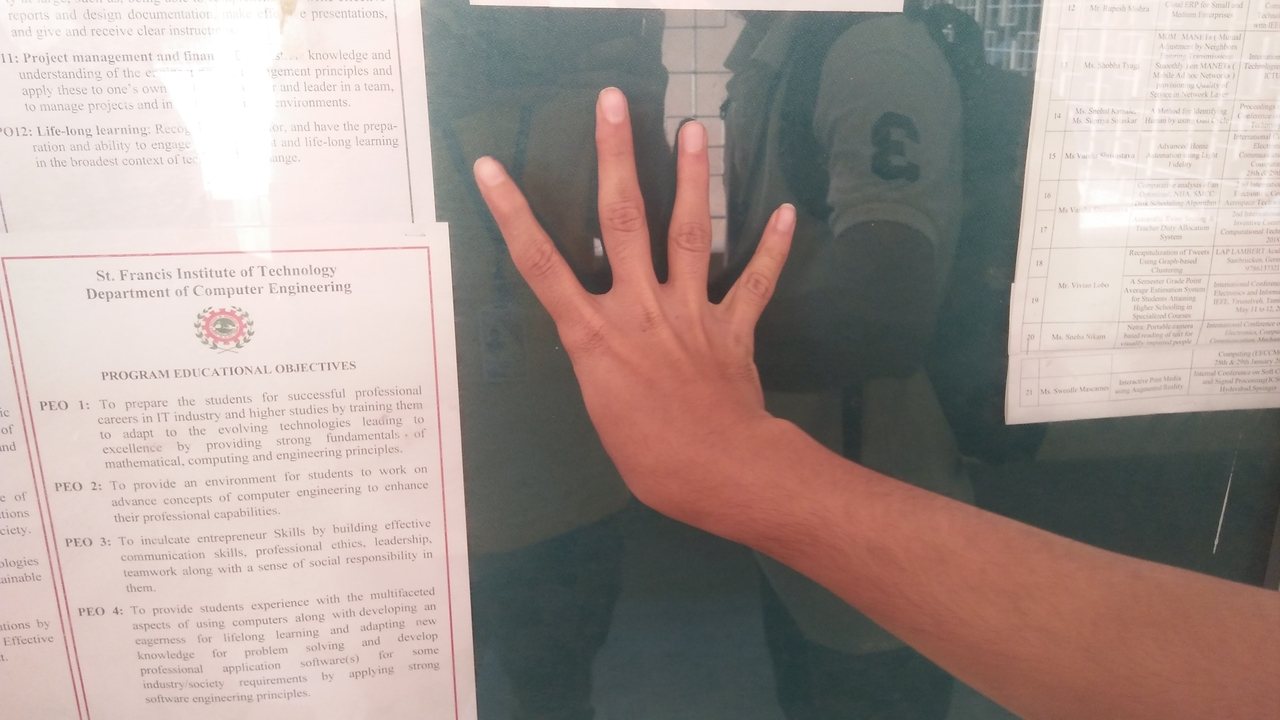fingertip: (458, 144, 520, 196), (754, 190, 808, 242), (586, 80, 638, 126), (666, 114, 716, 156)
